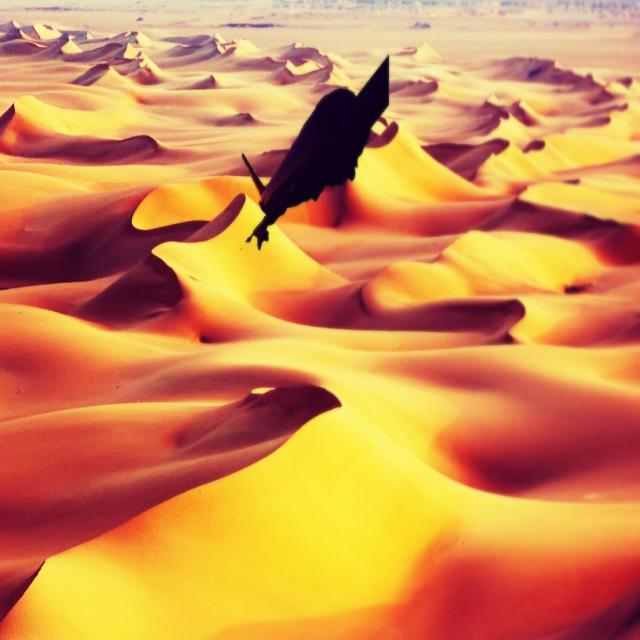airplane: (241, 52, 390, 250)
